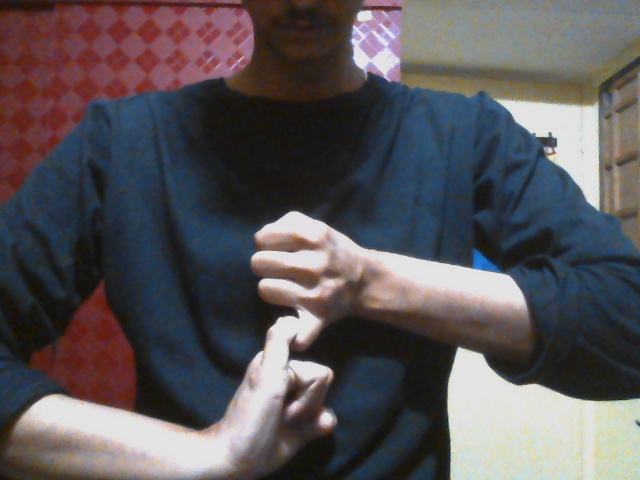S: (224, 209, 367, 480)
